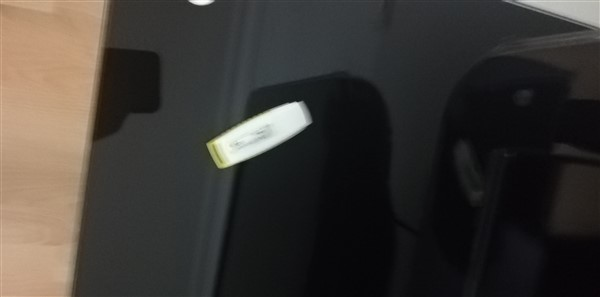flash disk: (197, 93, 315, 171)
